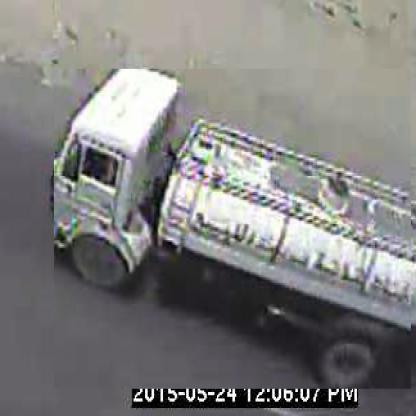truck: (55, 70, 413, 391)
